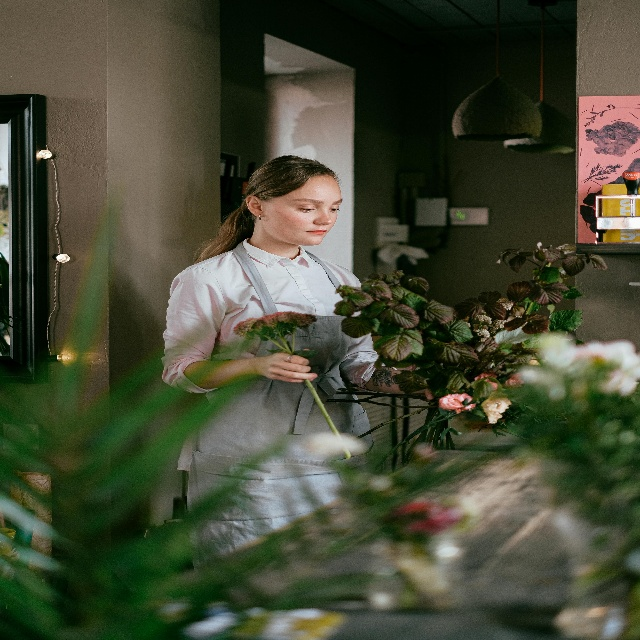Sin_guantes: (256, 346, 317, 384)
